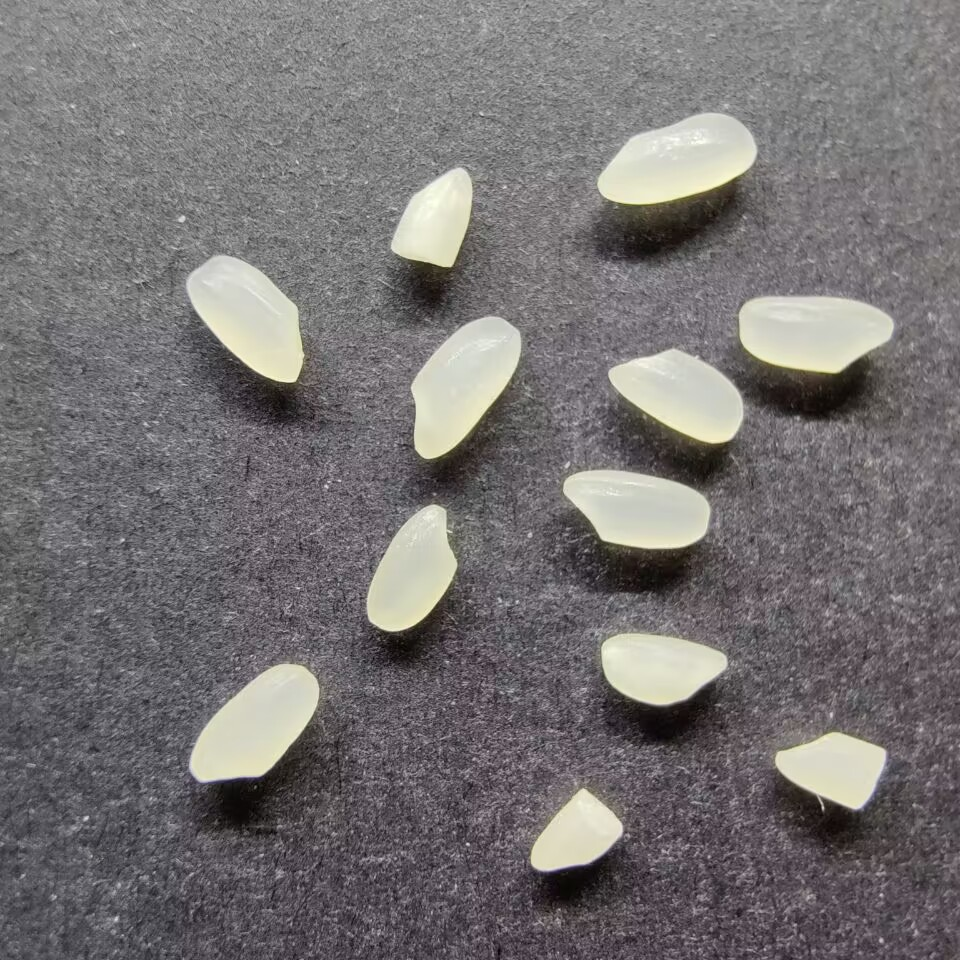broken: (773, 730, 885, 812), (389, 163, 474, 270), (527, 786, 625, 874)
rice: (408, 314, 523, 460), (187, 662, 322, 785), (185, 254, 305, 386), (594, 111, 758, 206), (606, 347, 745, 445), (736, 294, 897, 375), (561, 468, 712, 550), (365, 502, 457, 632), (598, 632, 728, 705)
